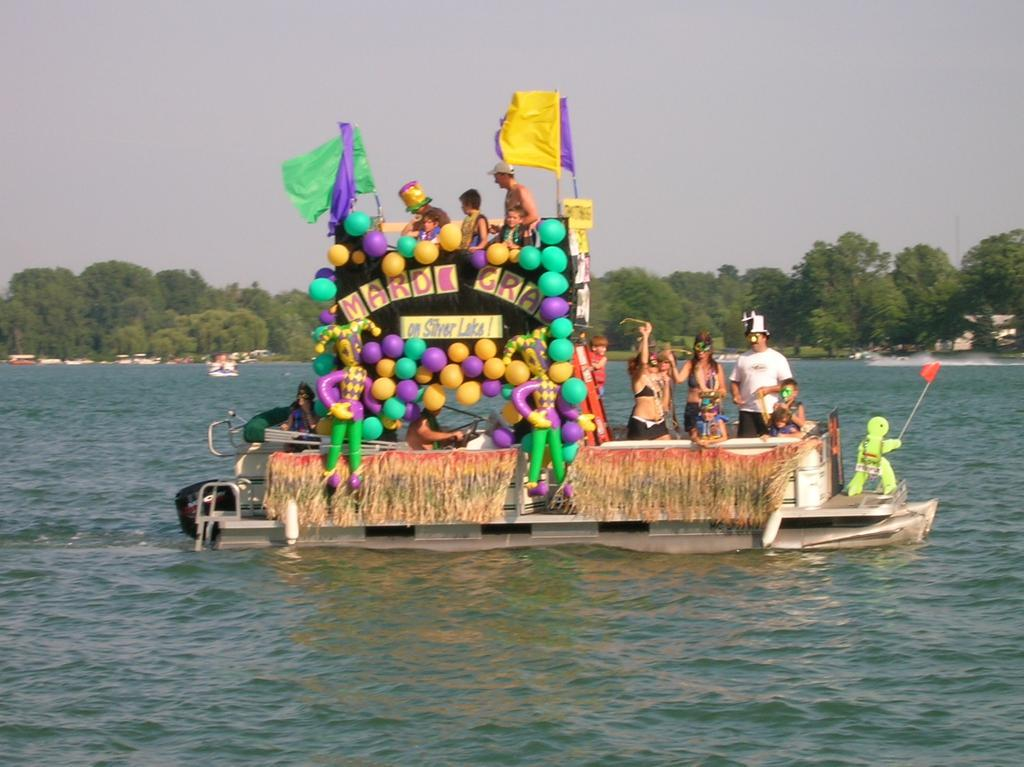face: (749, 331, 764, 350), (702, 405, 716, 421), (696, 343, 710, 358), (647, 356, 659, 373), (496, 174, 509, 188), (782, 387, 794, 402), (409, 204, 424, 216), (660, 357, 672, 371), (508, 212, 519, 227), (299, 391, 310, 405), (462, 200, 472, 214), (424, 218, 434, 232), (596, 343, 607, 355)
